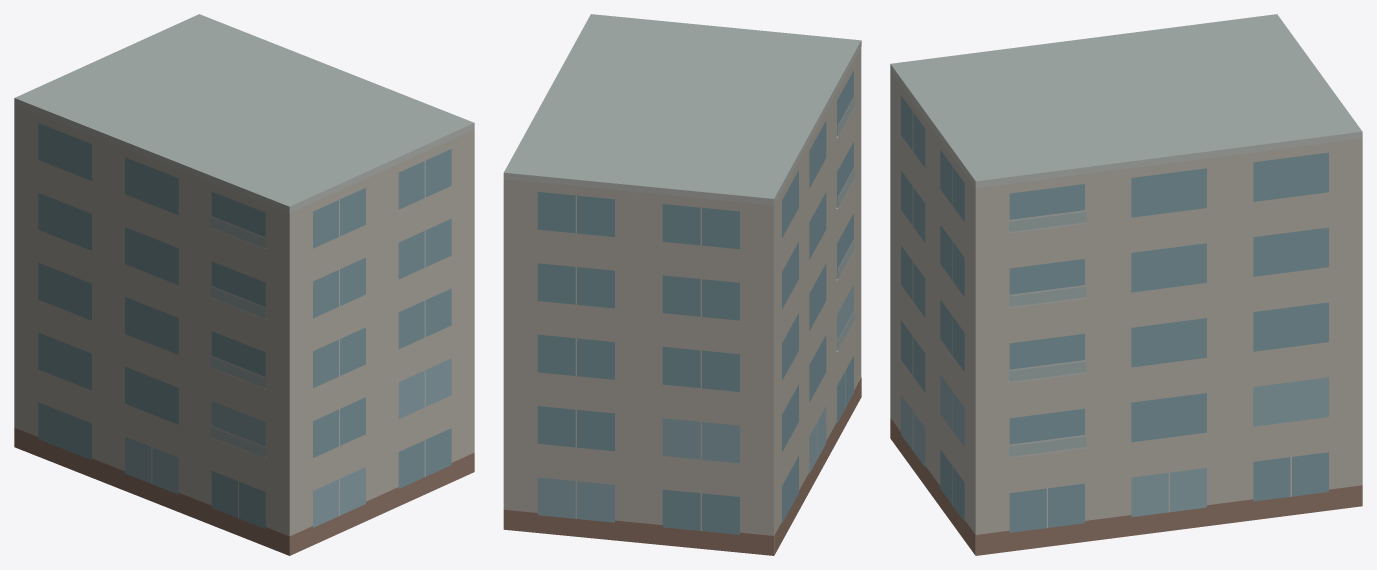
Rendered from survey-upis-32985508.glb.
3 renders of one model, left to right at view 1: azimuth 30°, elevation 25°; view 2: azimuth 150°, elevation 25°; view 3: azimuth 270°, elevation 25°, orthographic. The views are drawn at different scales.
Parts seen in each view (by area): view 1: survey-upis-32985508.tmp; view 2: survey-upis-32985508.tmp; view 3: survey-upis-32985508.tmp.
Part boxes in pixels (<box>): survey-upis-32985508.tmp: <box>14,14,474,555</box>; survey-upis-32985508.tmp: <box>503,14,861,555</box>; survey-upis-32985508.tmp: <box>890,14,1362,555</box>.
Size of the model in its own units: 12.66 by 13.2 by 15.1.
